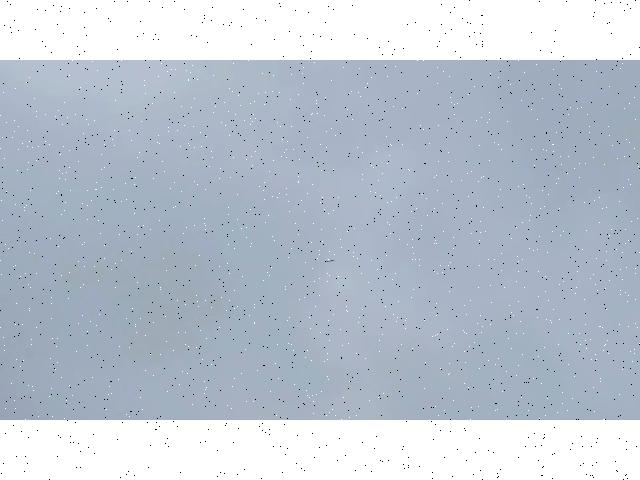Anti-Drone: (327, 260, 337, 262)
